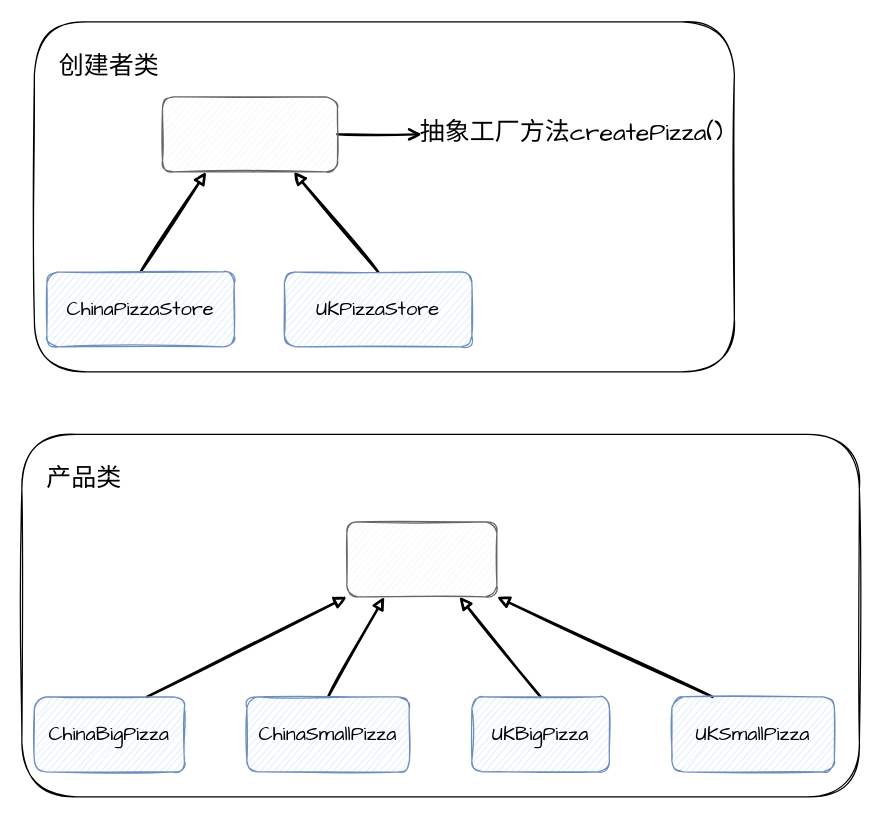
Image size: 881x819. Some labels were removed from this diagram. The centre of each missing label's shape, as x and y in pixels:
"Pizza" goes at (x=421, y=559).
"PizzaStore" goes at (x=249, y=134).
